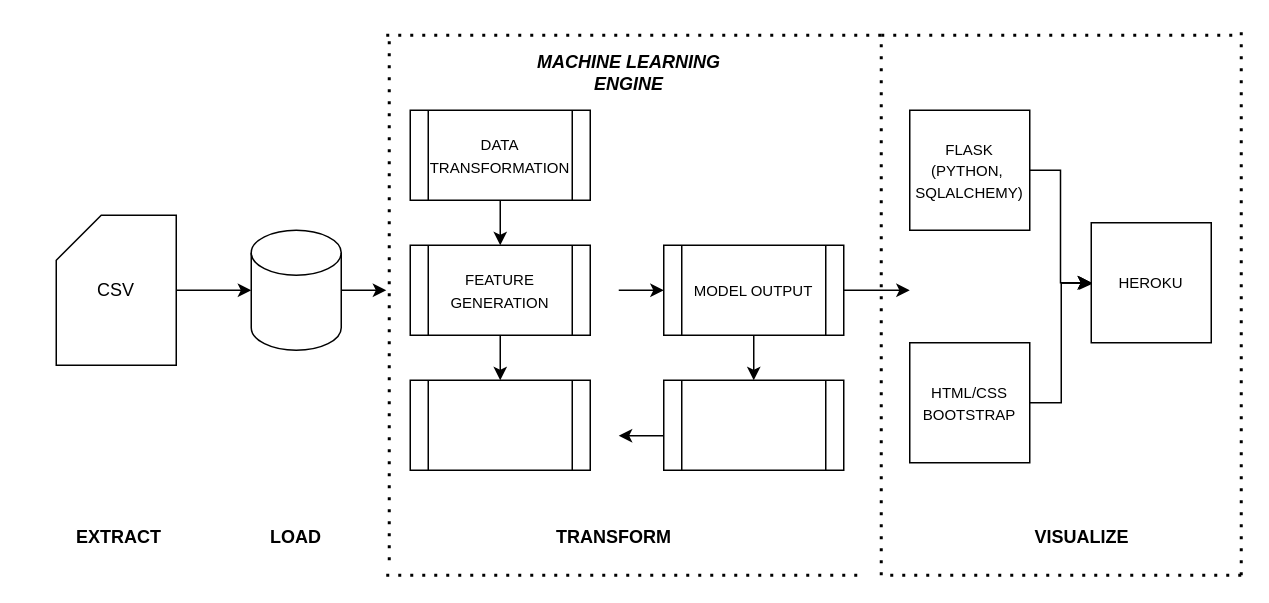
The diagram is 1269 pixels wide and 603 high, and some of its shapes have lost their labels. Each missing label, with the centre of its shape:
"MODEL ENGINE" belongs at point (499, 424).
"PERFORMANCE TUNING" belongs at point (753, 424).
"POSTGRES" belongs at point (295, 289).
